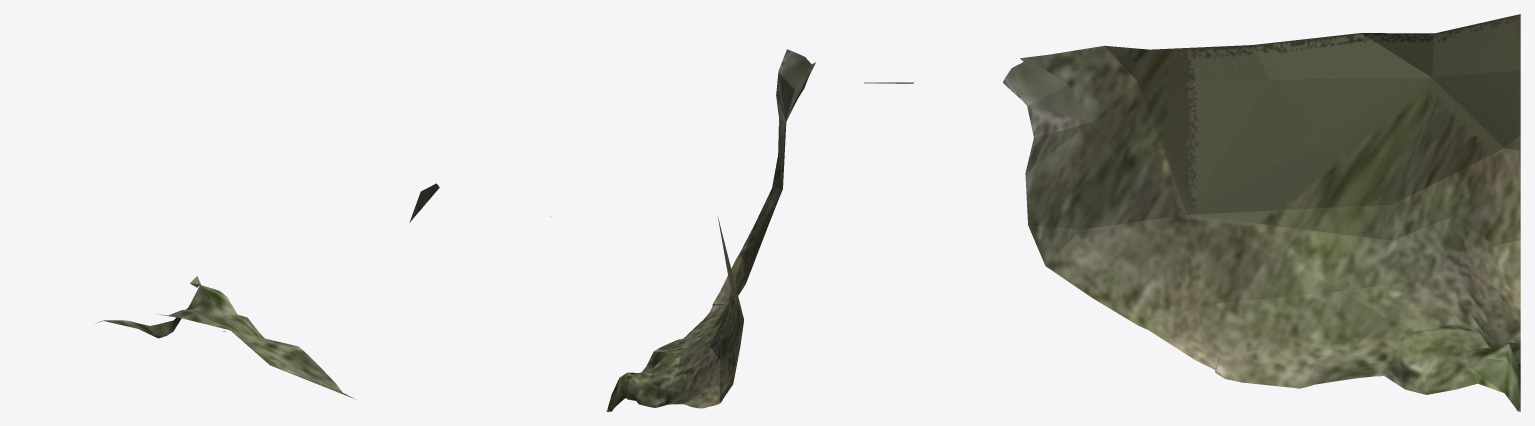
3 renders of one model, left to right at view 1: azimuth 30°, elevation 25°; view 2: azimuth 150°, elevation 25°; view 3: azimuth 270°, elevation 25°, orthographic. The views are drawn at different scales.
Bounding box in the file's own units: 2.03 × 3.27 × 5.9.
Materials: 1 (1 with a texture image).
